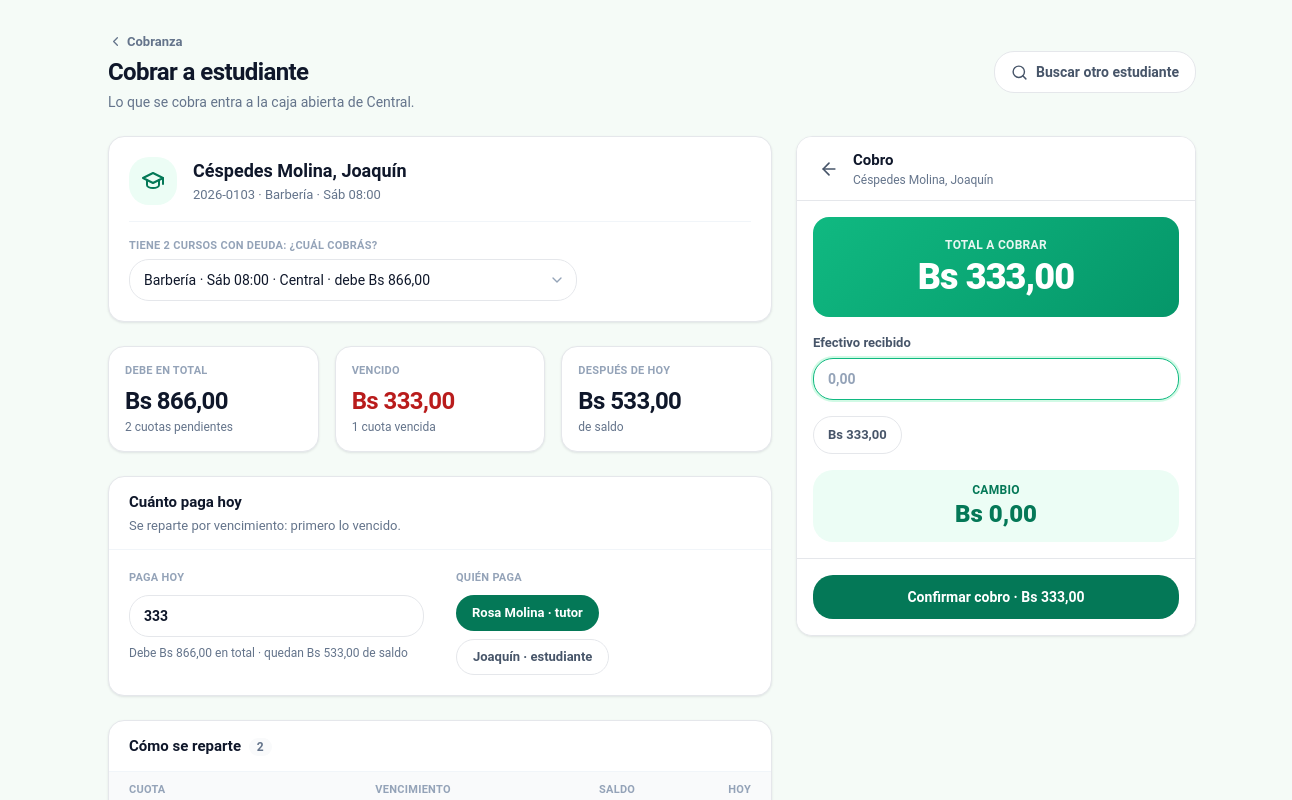
Test: QA 23-oct · cobrar a estudiante › con dos cursos con deuda deja elegir cuál cobrar
This screenshot has width=1292, height=800.
Select "Uñas · L-V 15:00 · Central · debe Bs 450,00" in the dropdown named "Inscripción a cobrar" at (353, 280), box [129,259,577,301]
(page scrolled)
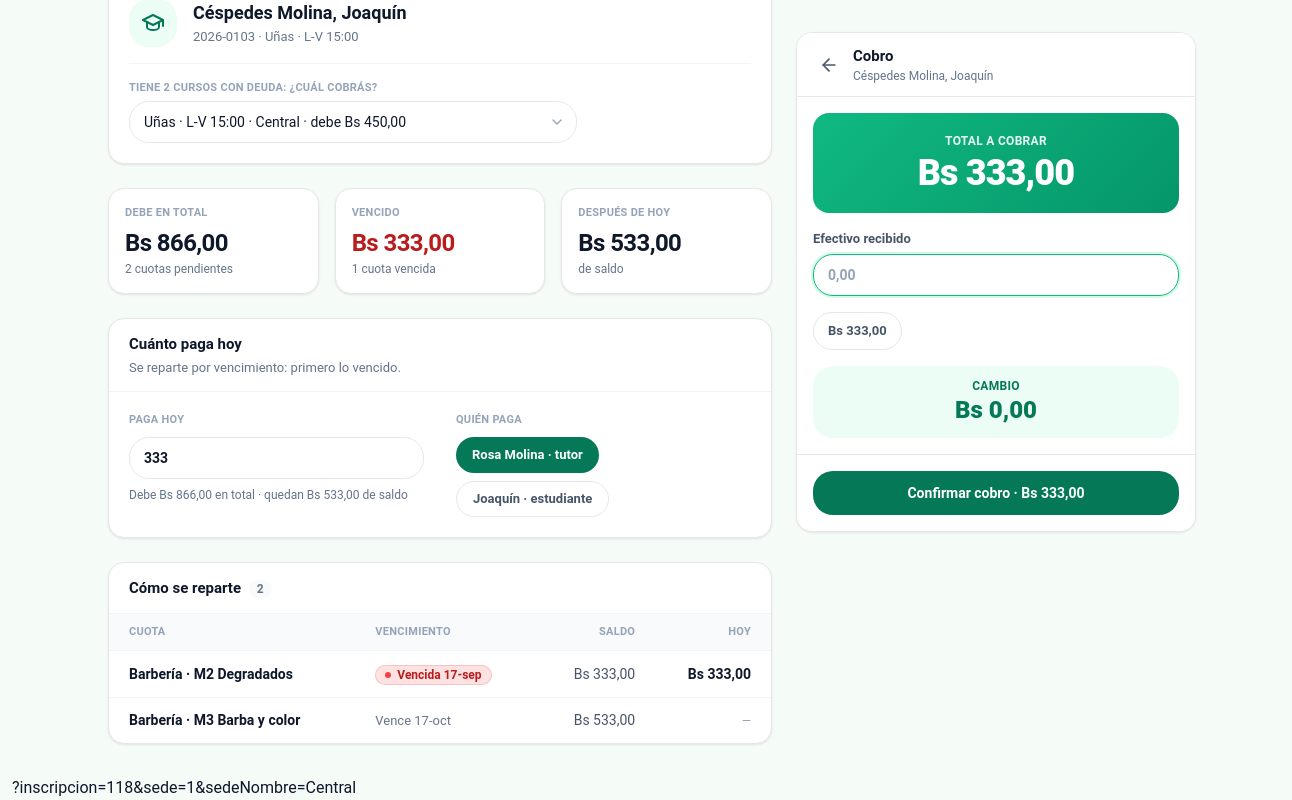
Result: the text with test id "direccion" shows "?inscripcion=118" at [12,778,356,796]
